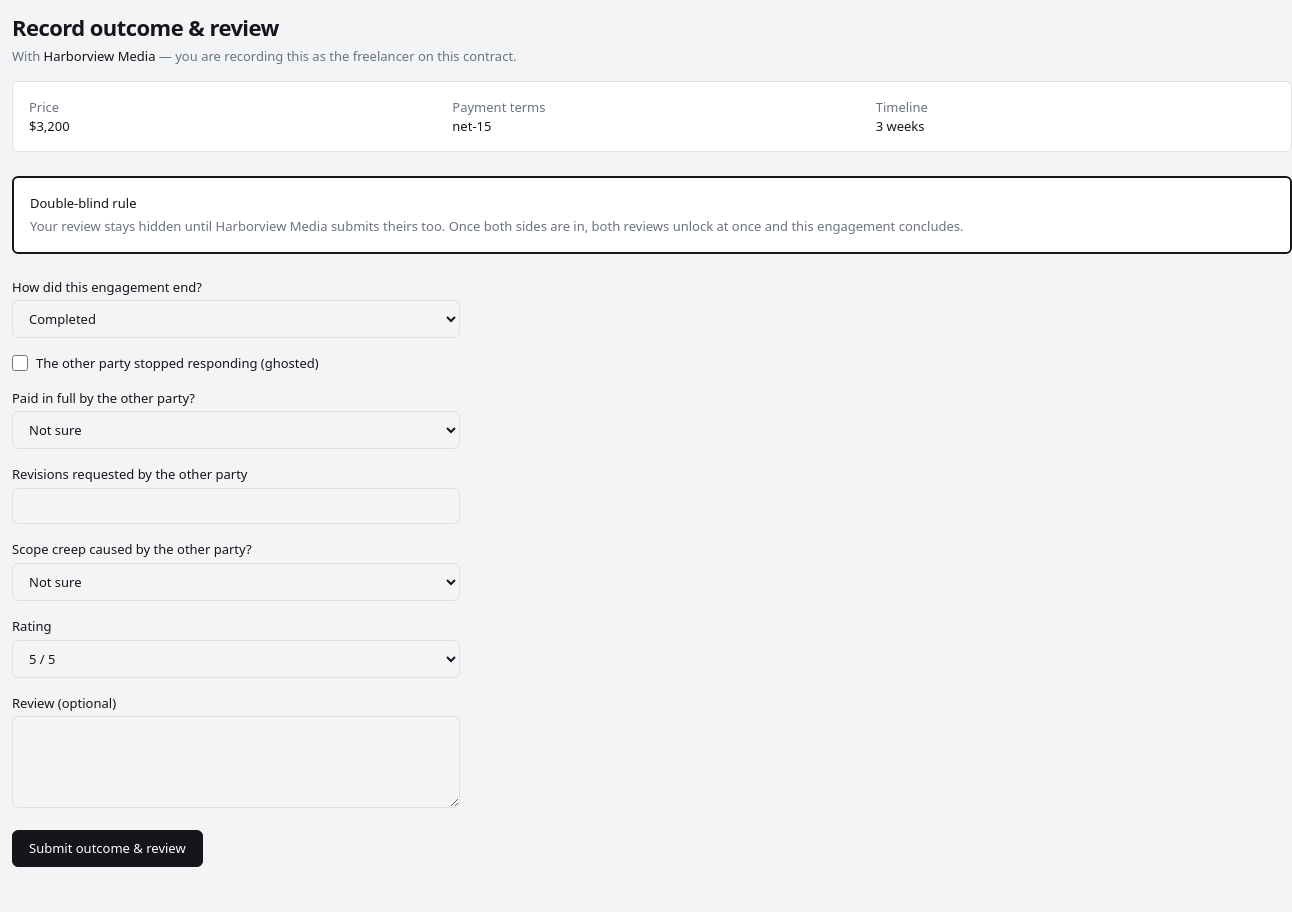
Test case: RecordOutcome › shows the "both sides in, concluded" state after the submission that completes the pair
Select "Completed" in the dropdown labelled "How did this engagement end?". click: (236, 319)
box: [12,300,460,338]
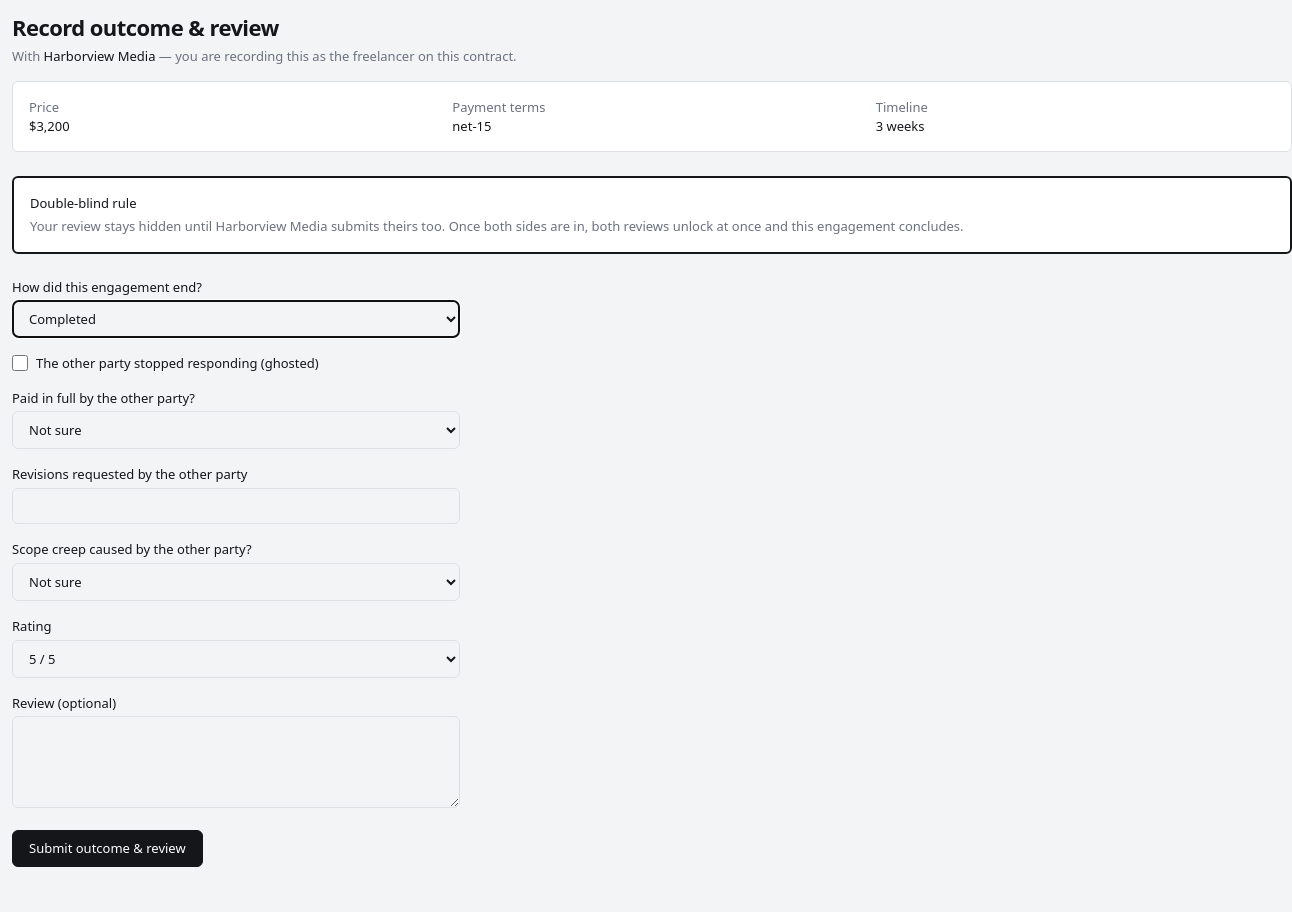
Select "4 / 5" in the dropdown labelled "Rating". click: (236, 658)
box: [12,640,460,678]
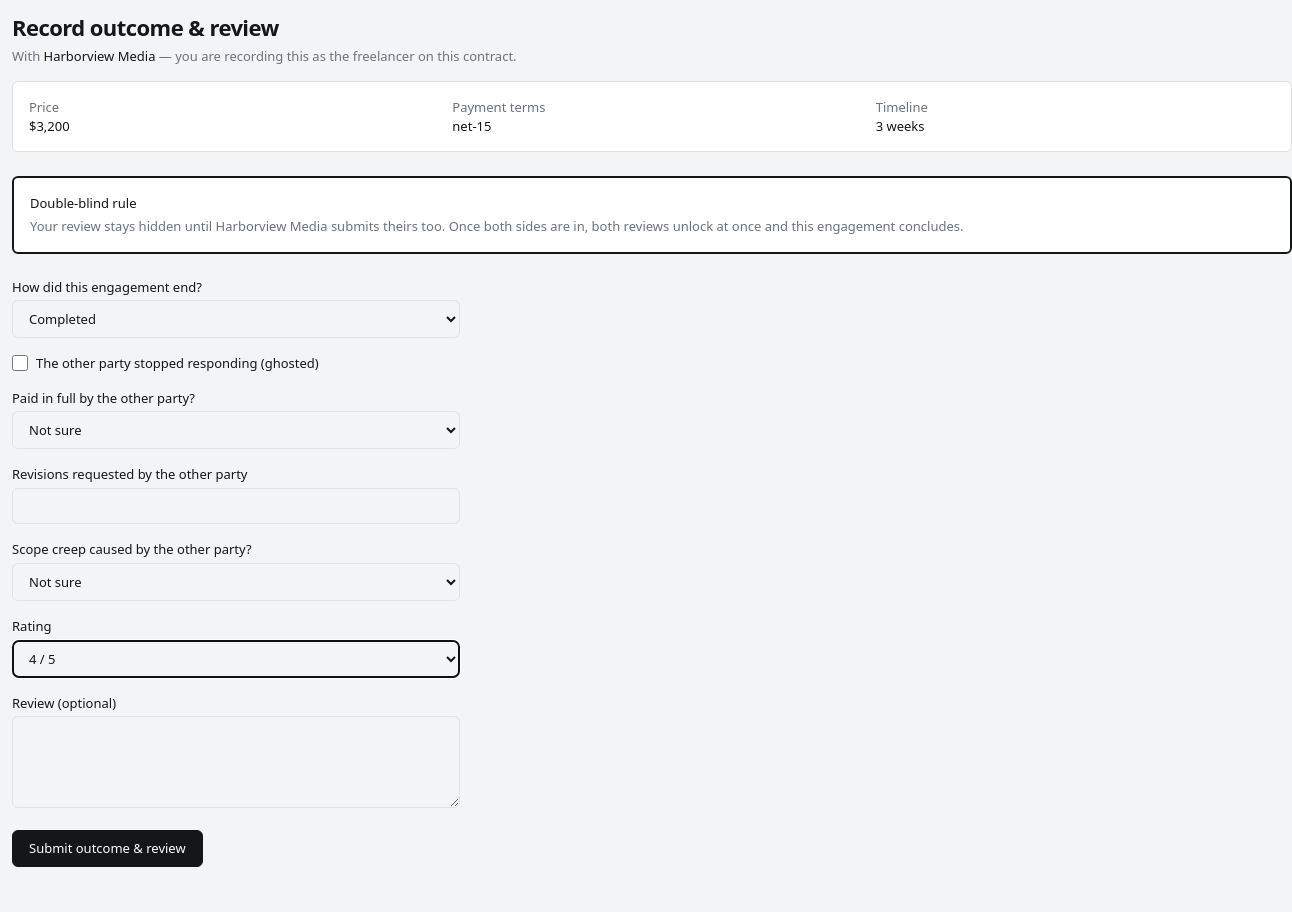
Click the button "Submit outcome & review". click: (107, 849)
box: [12,830,203,867]
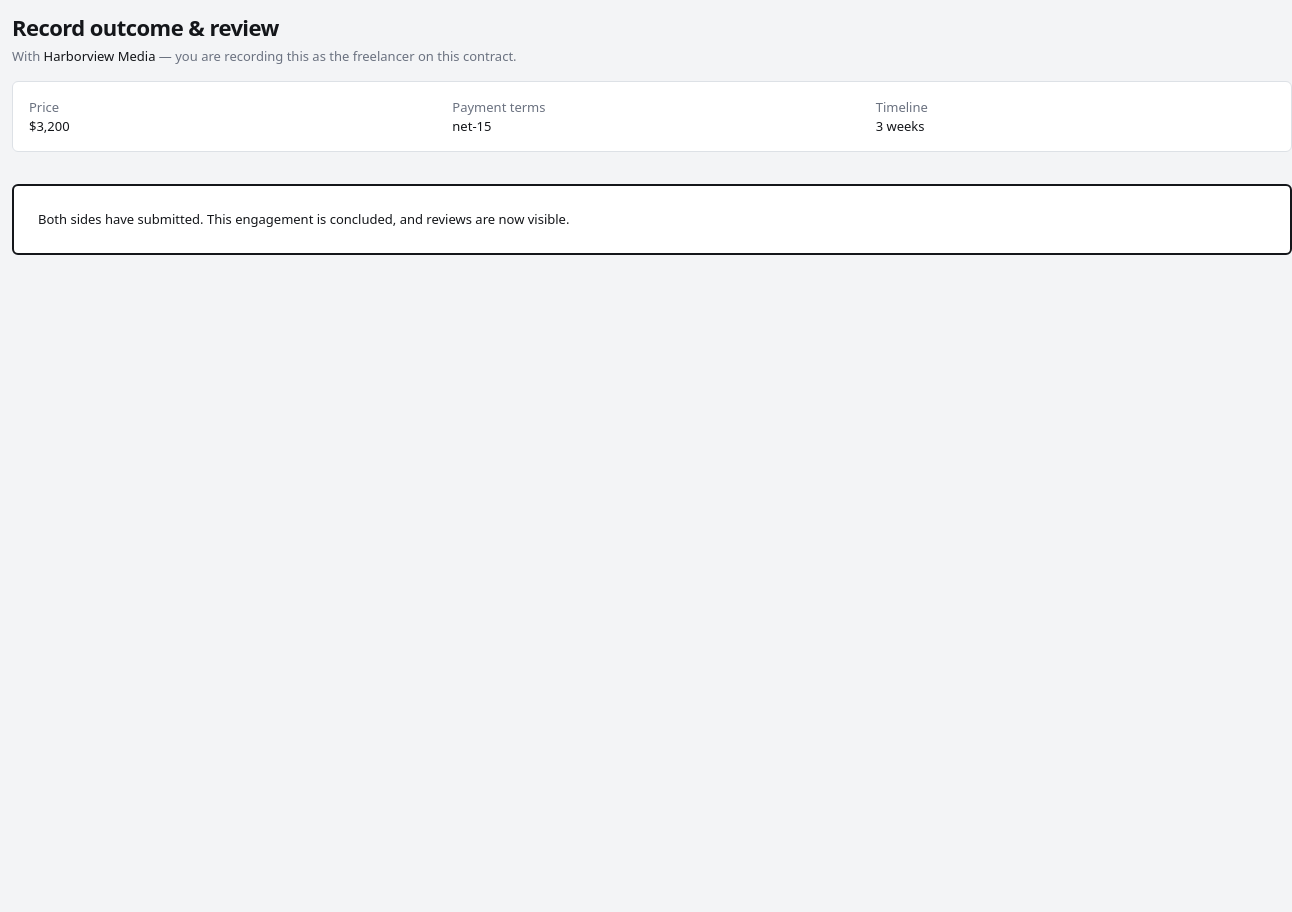
Expected: the text "reviews are now visible" is shown, [38,210,569,228]
